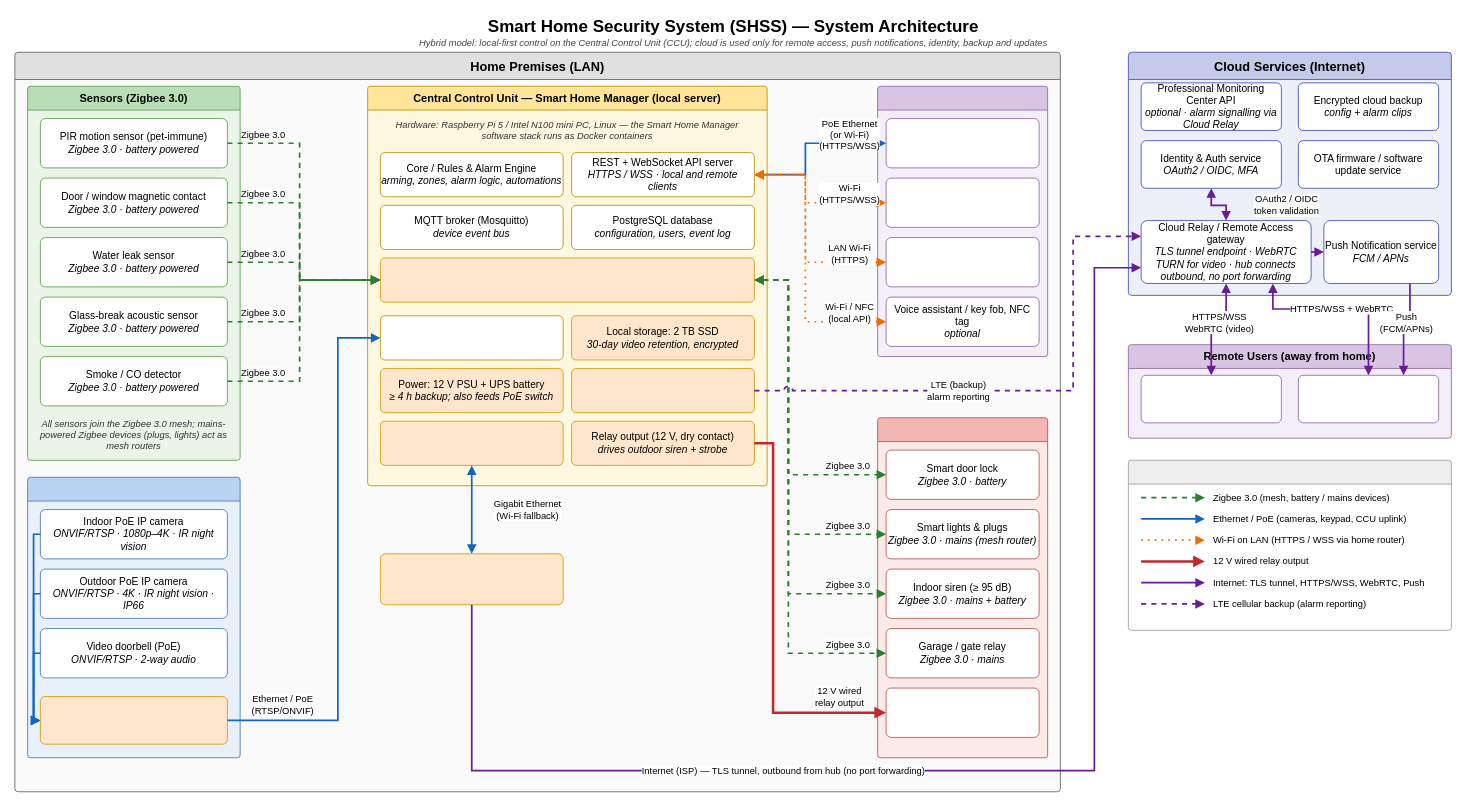
Image size: 1466x807. Some labels were removed from this diagram. The shapes that lost their labels are listed below. From the top down, each one's box as (x1, y1, x2, y2) in pixels, then its label:
(885, 118, 1039, 168): Wall-mounted keypad / touch panel PoE Ethernet or Wi-Fi
(885, 177, 1039, 227): Mobile app (iOS / Android) on home Wi-Fi
(877, 85, 1048, 357): Local User Interfaces
(380, 257, 754, 302): Zigbee 3.0 coordinator (USB dongle) sensor and actuator mesh network
(885, 237, 1039, 287): Web dashboard in browser laptop / PC on LAN
(380, 315, 563, 360): NVR / Video service RTSP/ONVIF ingest, motion clips
(571, 368, 754, 413): LTE backup modem (USB) alarm reporting if ISP link fails
(1140, 374, 1281, 423): Web dashboard in browser remote
(1298, 374, 1439, 423): Mobile app (iOS / Android) remote
(380, 420, 563, 465): Network interface Gigabit Ethernet to router, Wi-Fi fallback
(1128, 459, 1451, 630): Legend — connectivity
(380, 553, 563, 605): Home router / Wi-Fi AP LAN switching, DHCP, firewall · Internet (ISP) uplink
(877, 417, 1048, 758): Controllers / Actuators
(27, 476, 240, 758): Cameras (PoE / Ethernet)
(40, 696, 227, 744): PoE switch (802.3at), on UPS Cat6 Ethernet to cameras · GbE uplink to CCU
(885, 687, 1039, 737): Outdoor siren + strobe 12 V wired to CCU relay output
